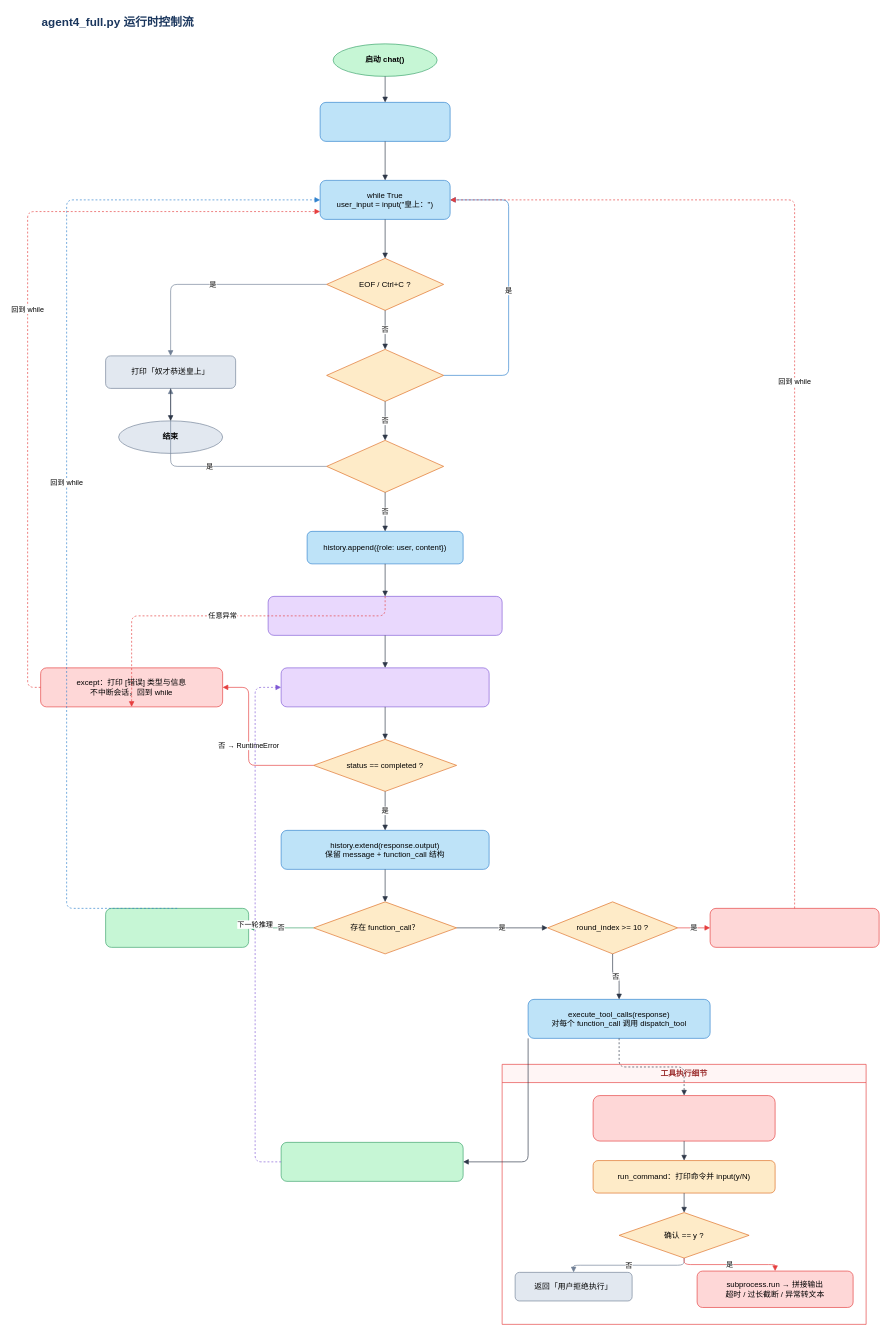
The diagram is 890 pixels wide and 1336 high, and some of its shapes have lost their labels. Here are the shapes that lost their labels. From the top down, the centre of each, then its label:
At (x=384, y=121): "history = [] 打印欢迎语".
At (x=385, y=375): "空输入？".
At (x=385, y=466): "exit / quit？".
At (x=384, y=615): "try: for round_index in range(MAX_TOOL_ROUNDS + 1) 即 0..10，最多 11 次 LLM 调用".
At (x=384, y=687): "client.responses.create(...) input=history, tools=TOOLS, tool_choice=auto".
At (x=177, y=927): "打印 response.output_text 本轮对话结束".
At (x=794, y=927): "打印已达最大工具轮数 / 最大执行轮数 停止本轮，回到用户输入".
At (x=683, y=1118): "dispatch_tool 未知工具 / JSON 非法 / 字段不合法 → 返回错误字符串".
At (x=371, y=1161): "history.extend(tool_outputs) 进入下一轮 LLM".
